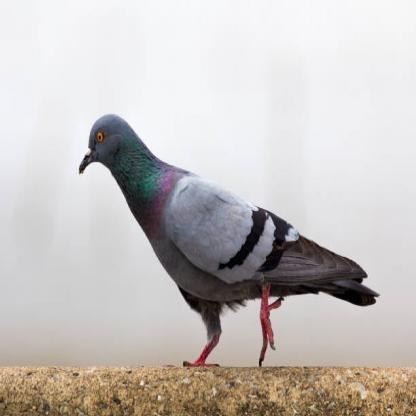Flying Rat: (72, 110, 371, 371)
